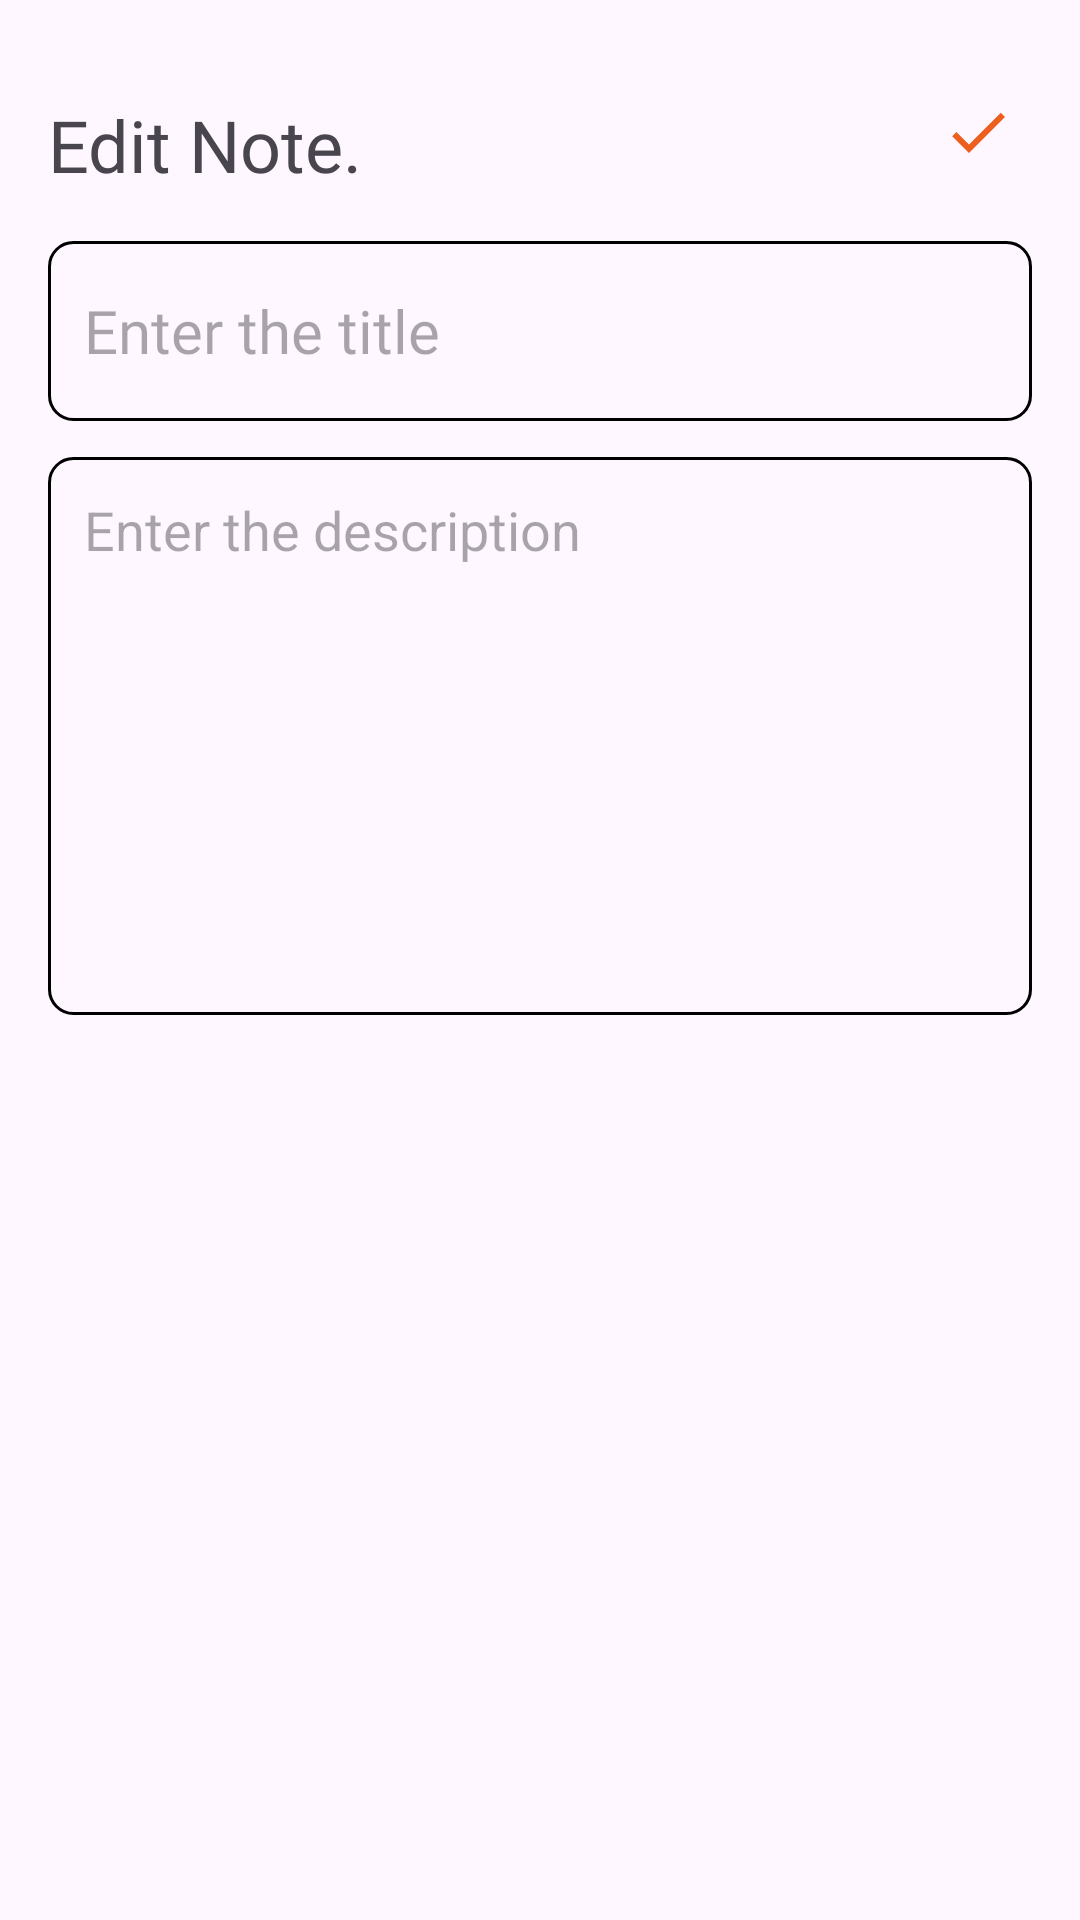

Icons on this 1080 x 1920 Android screen, each with the point to tap as (x=x, y=y):
done: (x=978, y=133)
